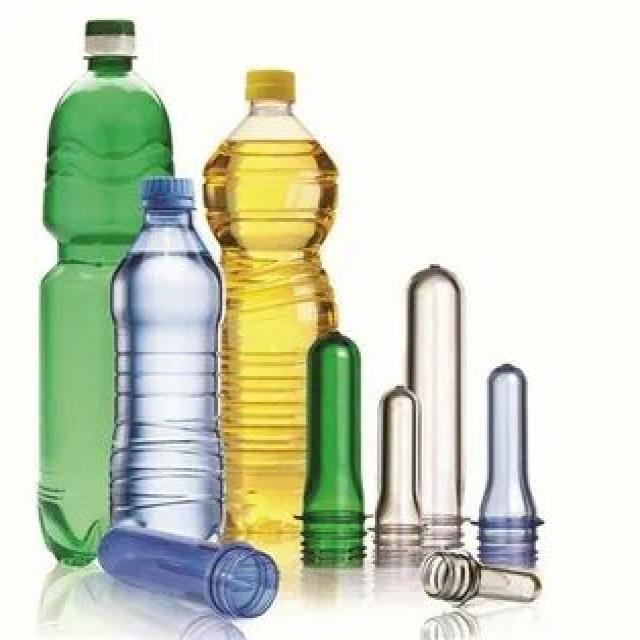blue: (110, 207, 222, 530)
green: (42, 57, 172, 175)
